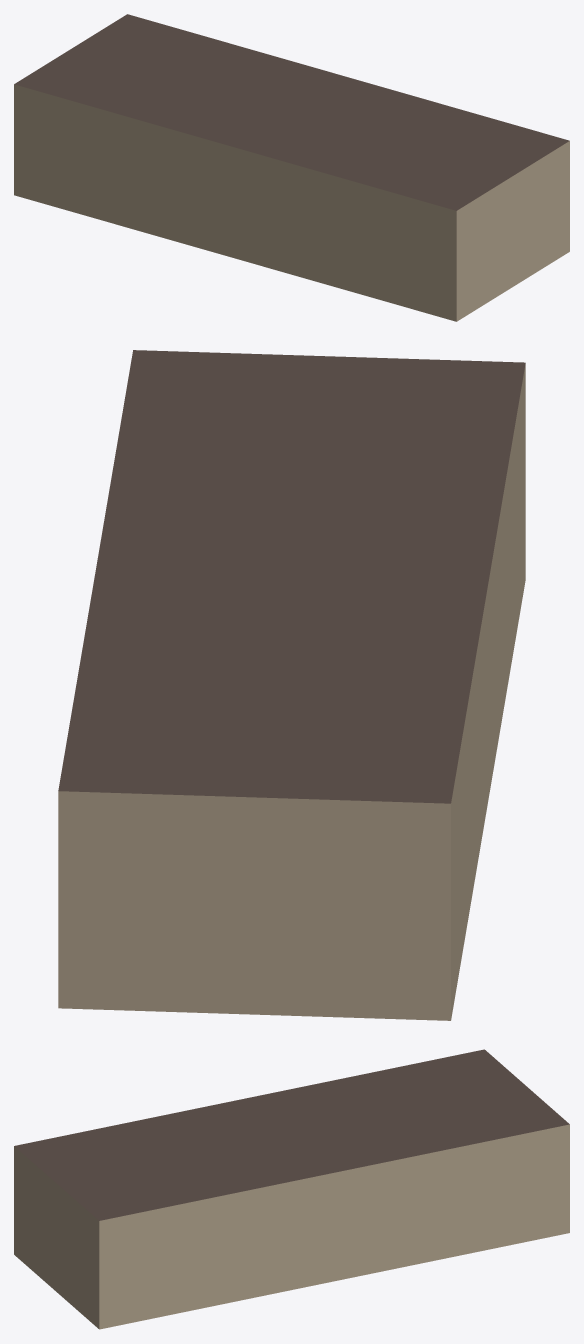
3 renders of one model, top to bottom at view 1: azimuth 30°, elevation 25°; view 2: azimuth 150°, elevation 25°; view 3: azimuth 270°, elevation 25°, orthographic. The views are drawn at different scales.
Parts seen in each view (by area): view 1: HP-w1287059327; view 2: HP-w1287059327; view 3: HP-w1287059327.
Boxes of the visible parts, x1,y1,x2,y2 form: HP-w1287059327: (14,14,569,321); HP-w1287059327: (58,350,525,1020); HP-w1287059327: (14,1049,569,1329).
Bounding box in the file's own units: 30.49 × 9 × 41.75.
